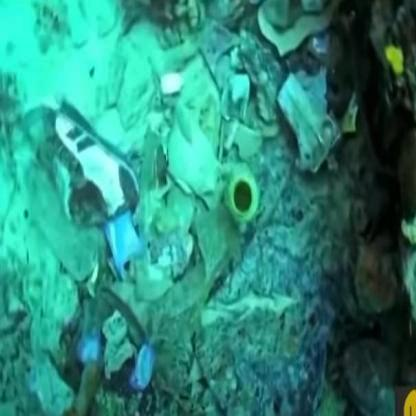misc: (33, 93, 169, 277), (214, 183, 271, 251)
